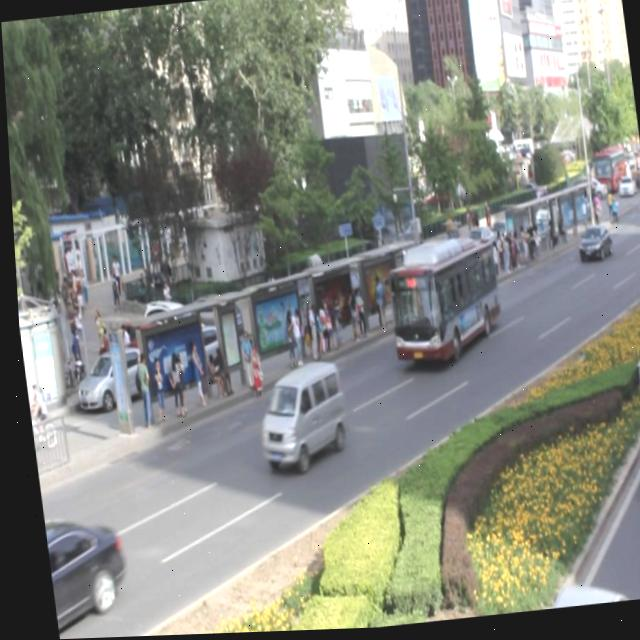car: (37, 510, 126, 627), (570, 225, 608, 266)
truck: (247, 359, 344, 470)
van: (377, 233, 499, 359)
